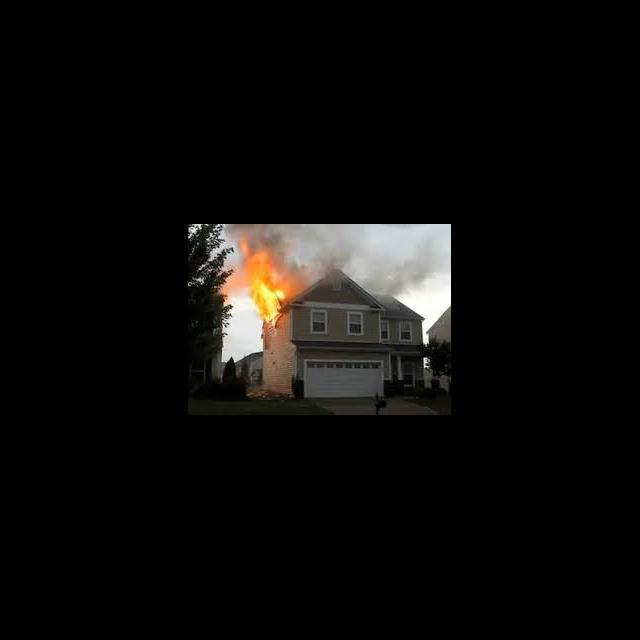Fire: (216, 226, 304, 316)
Smoke: (303, 224, 450, 290)
